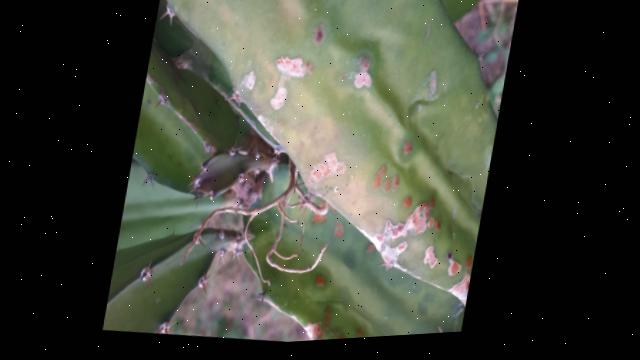stemcanker: (238, 12, 470, 253)
